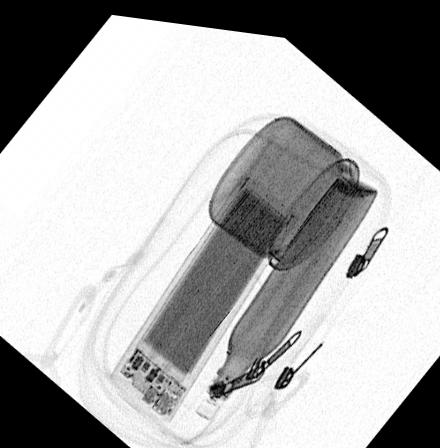Powerbank: (106, 162, 300, 423)
